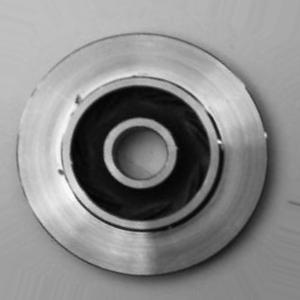defect: (49, 80, 89, 194)
